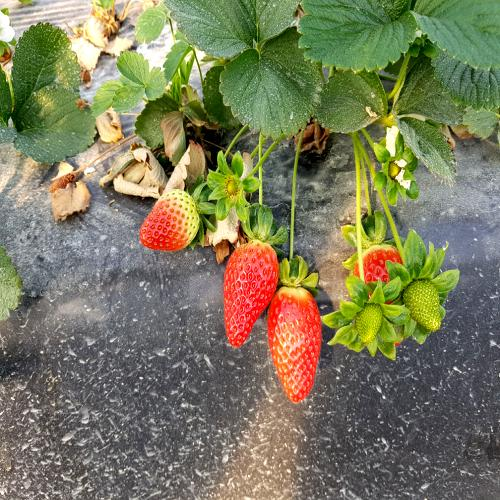partially-ripe: (136, 188, 200, 256)
ripe: (220, 230, 282, 362), (266, 278, 321, 412)
